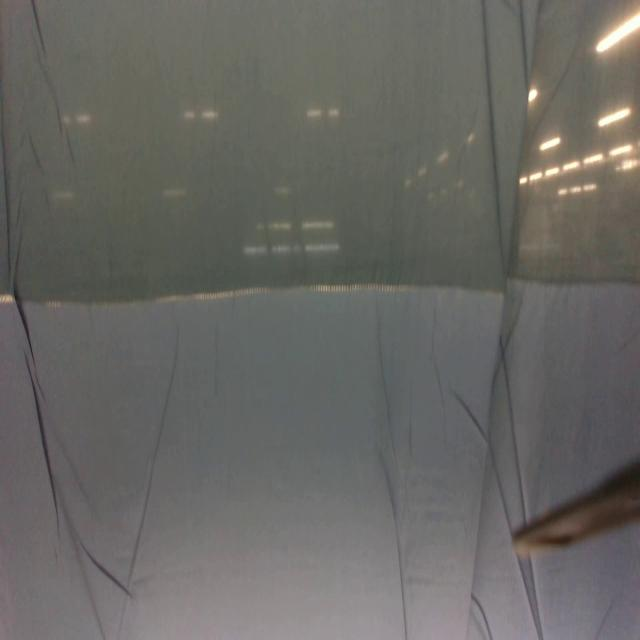crease: (452, 331, 530, 526), (129, 333, 181, 582), (22, 346, 62, 540), (382, 475, 411, 640), (374, 298, 397, 465), (81, 544, 132, 602), (0, 82, 14, 282), (516, 553, 547, 640), (12, 294, 38, 361), (430, 300, 446, 407), (27, 0, 50, 58), (469, 590, 494, 640), (24, 128, 44, 180), (50, 84, 64, 138), (65, 130, 79, 180)
